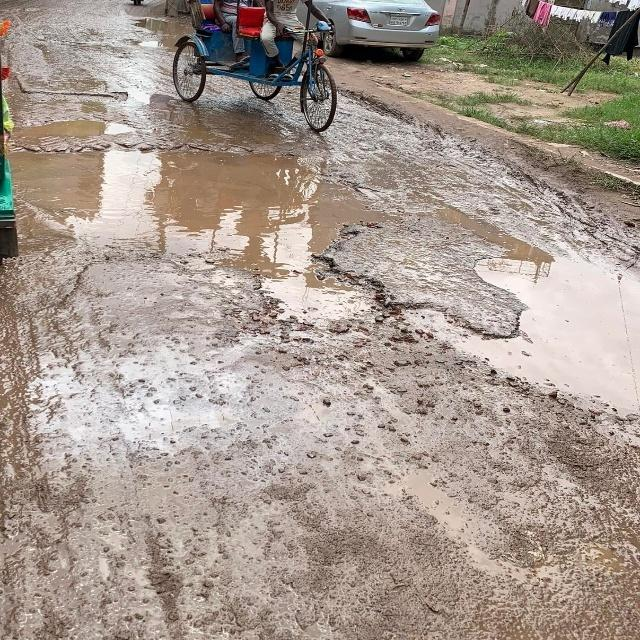Pothole: (26, 132, 366, 358), (509, 262, 640, 411)
Surface Erosion: (20, 48, 640, 640)
